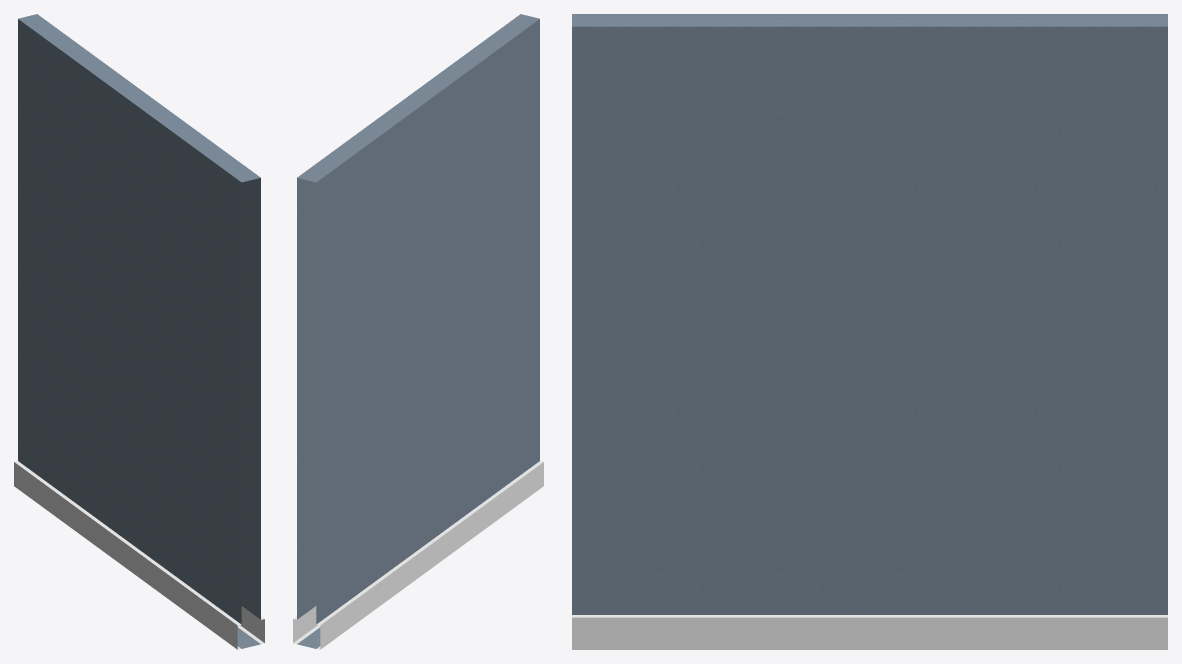
File: SM_Bld_House_Wall_01b.obj
The picture shows the model from 3 angles, left to right: view 1: azimuth 30°, elevation 25°; view 2: azimuth 150°, elevation 25°; view 3: azimuth 270°, elevation 25°; orthographic projection. The views are drawn at different scales.
Visible parts, largest first — view 1: SM_Bld_House_Wall_01b_mi_HouseInteriorWalls_02, SM_Bld_House_Wall_01b_mi_WhiteTrim; view 2: SM_Bld_House_Wall_01b_mi_HouseInteriorWalls_02, SM_Bld_House_Wall_01b_mi_WhiteTrim; view 3: SM_Bld_House_Wall_01b_mi_HouseInteriorWalls_02, SM_Bld_House_Wall_01b_mi_WhiteTrim.
Part boxes in pixels (x1,y1,x2,y2): SM_Bld_House_Wall_01b_mi_HouseInteriorWalls_02: (18, 14, 260, 648); SM_Bld_House_Wall_01b_mi_WhiteTrim: (14, 461, 264, 649); SM_Bld_House_Wall_01b_mi_HouseInteriorWalls_02: (297, 14, 539, 648); SM_Bld_House_Wall_01b_mi_WhiteTrim: (293, 461, 543, 649); SM_Bld_House_Wall_01b_mi_HouseInteriorWalls_02: (572, 14, 1167, 614); SM_Bld_House_Wall_01b_mi_WhiteTrim: (572, 615, 1167, 649).
Size of the model in its own units: 0.35 by 5.75 by 5.
Materials: 2 (1 with a texture image).
